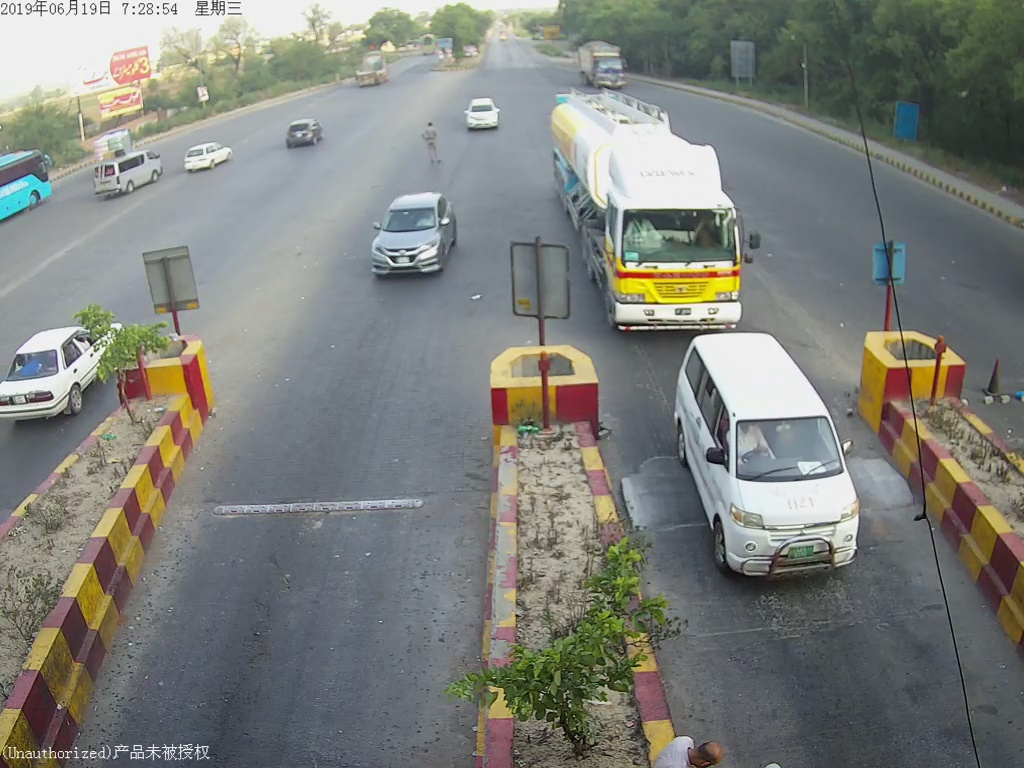Cat-1: (665, 340, 874, 581), (364, 188, 459, 271), (465, 95, 502, 134)
Cat-5: (590, 102, 767, 334)
